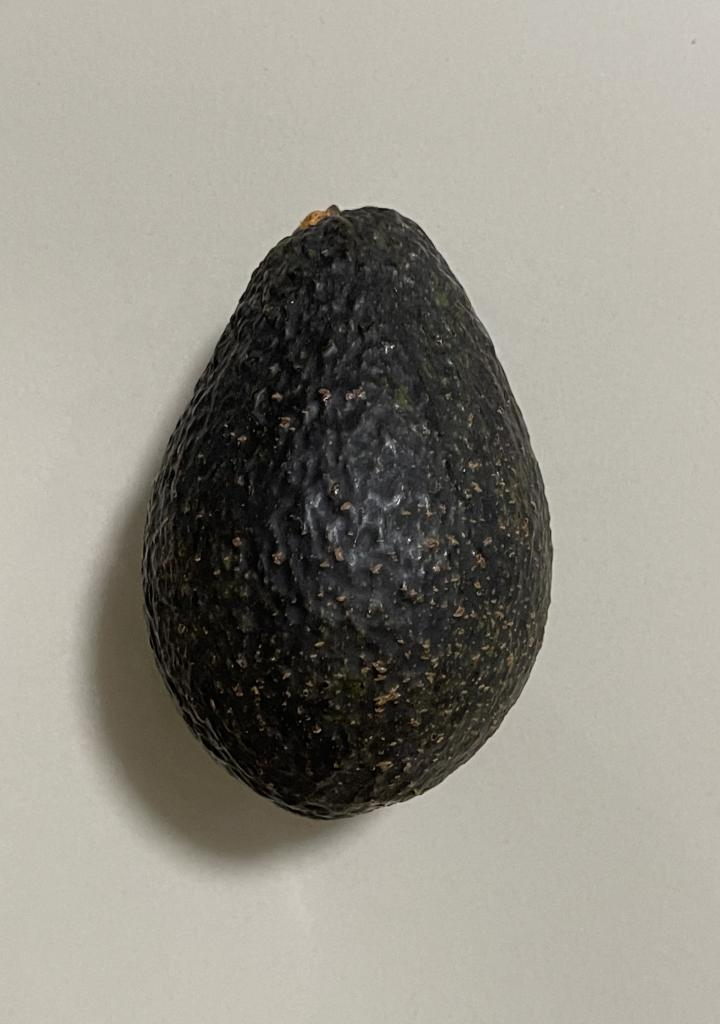Level2: (129, 196, 562, 828)
